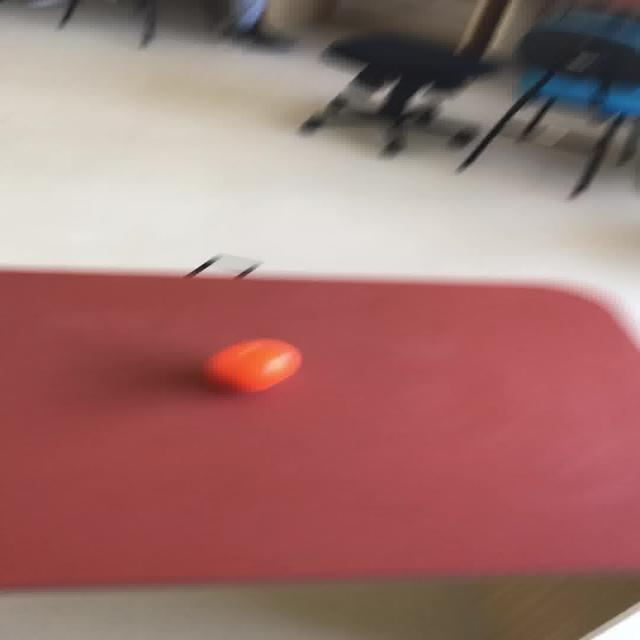orange: (203, 337, 302, 392)
